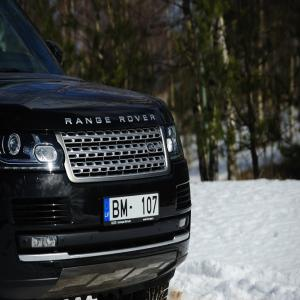Vehicle-registration-plate: (105, 193, 160, 229)
